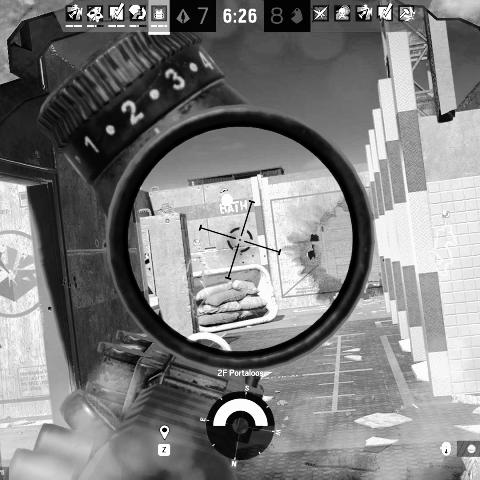Friend_label: (438, 210, 454, 226), (189, 238, 205, 254)
